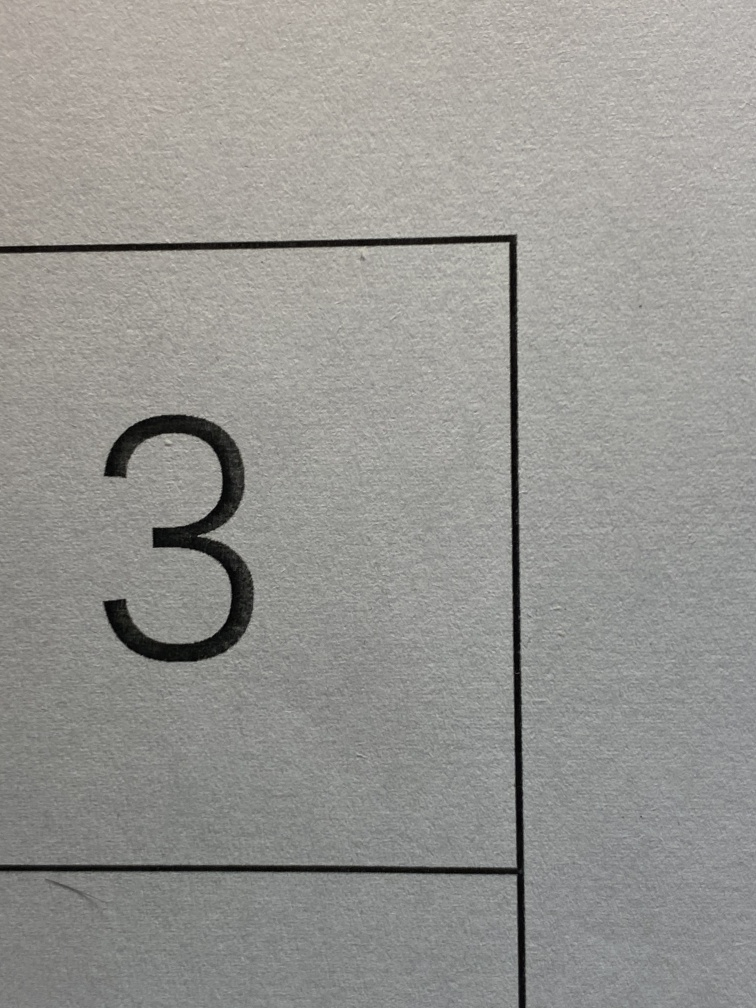three: (34, 360, 335, 731)
